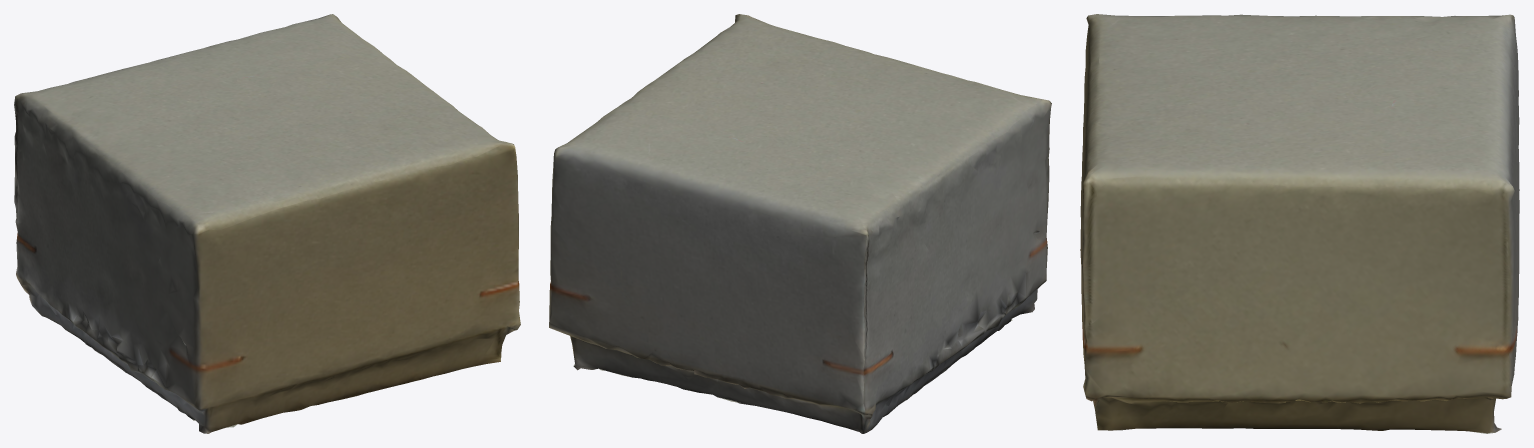
The model's file is boooox.fbx.
The picture shows the model from 3 angles, left to right: view 1: azimuth 30°, elevation 25°; view 2: azimuth 150°, elevation 25°; view 3: azimuth 270°, elevation 25°; orthographic projection. The views are drawn at different scales.
Visible parts, largest first — view 1: Model; view 2: Model; view 3: Model.
Boxes of the visible parts, box(x1,y1,x2,y2) form: Model: box(14, 14, 520, 433); Model: box(549, 14, 1051, 433); Model: box(1080, 14, 1519, 433).
Bounding box in the file's own units: 0.9588 × 0.6157 × 0.9271.
1 material, 1 textured.
